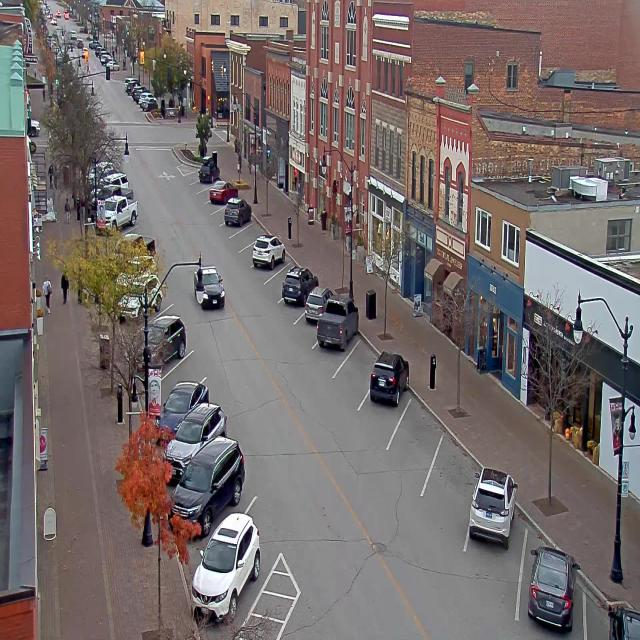available: (394, 388, 446, 468), (429, 437, 476, 512), (162, 341, 212, 388), (342, 331, 378, 390), (263, 256, 292, 301), (241, 212, 262, 244), (237, 245, 256, 269), (196, 180, 214, 202), (182, 165, 202, 182), (212, 204, 227, 225)
occupied: (169, 435, 245, 538), (192, 505, 275, 585), (526, 544, 580, 631), (468, 466, 518, 547), (172, 386, 233, 442), (154, 379, 208, 442), (592, 589, 640, 639), (368, 350, 409, 406), (143, 313, 187, 363), (316, 298, 358, 350), (305, 279, 334, 333), (282, 264, 318, 305), (252, 232, 285, 269), (224, 196, 251, 227), (210, 177, 238, 204), (197, 159, 220, 184)
